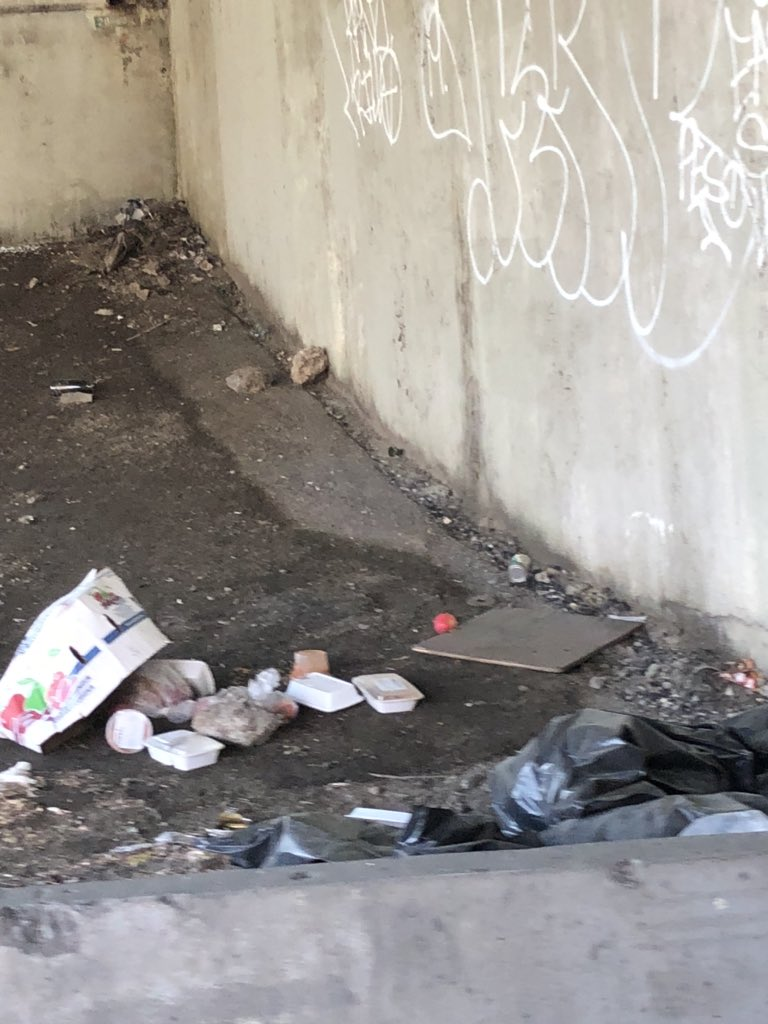graffiti: (239, 1, 768, 327)
trash: (43, 458, 768, 1024)
